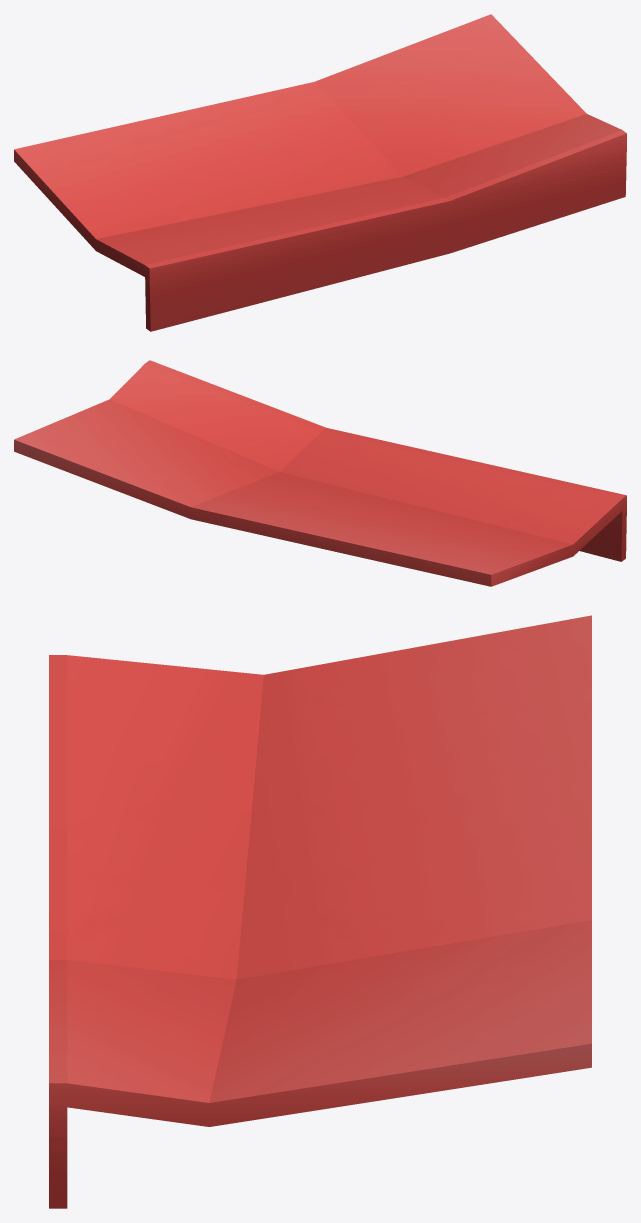
The model's file is SM_Building7.fbx.
3 renders of one model, top to bottom at view 1: azimuth 30°, elevation 25°; view 2: azimuth 150°, elevation 25°; view 3: azimuth 270°, elevation 25°, orthographic. The views are drawn at different scales.
Parts seen in each view (by area): view 1: Cube.032; view 2: Cube.032; view 3: Cube.032.
Part boxes in pixels (<box>): Cube.032: <box>14,14,626,331</box>; Cube.032: <box>14,360,626,586</box>; Cube.032: <box>49,615,591,1208</box>.
Size of the model in its own units: 8.92 by 1.82 by 4.39.
